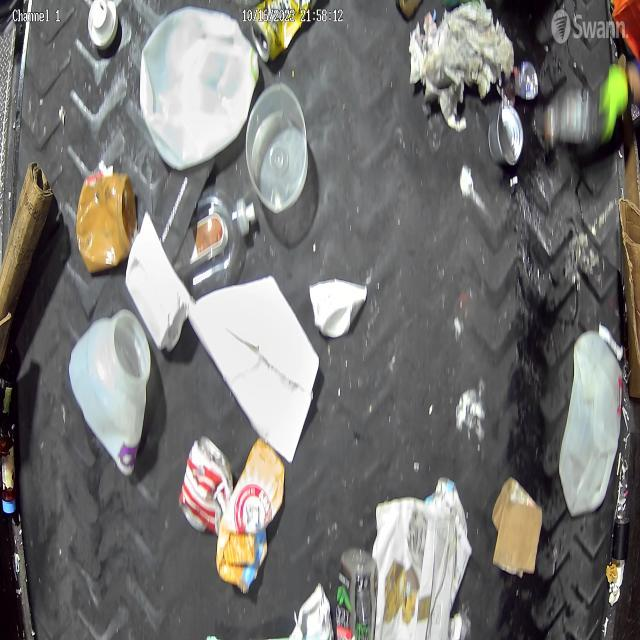can: (179, 434, 234, 536), (250, 0, 318, 65), (488, 101, 526, 168)
milk_jug: (138, 3, 260, 175), (558, 326, 624, 520)
